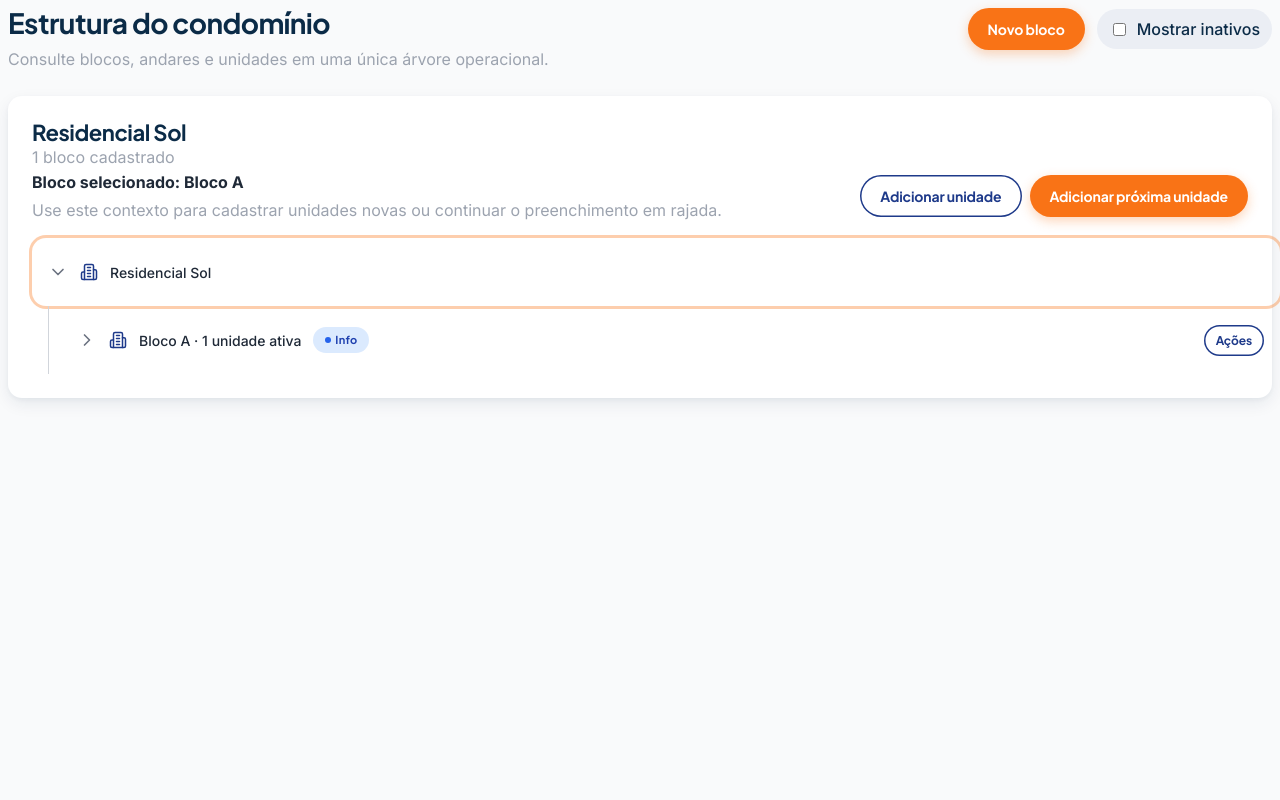
Test: EstruturaPage integration › inactivates a unidade, hides it, then shows it again when inactive items are enabled
The image size is (1280, 800).
Click the list item "Bloco A · 1 unidade ativa Info Ações" at (220, 340), box [77,325,1264,356]
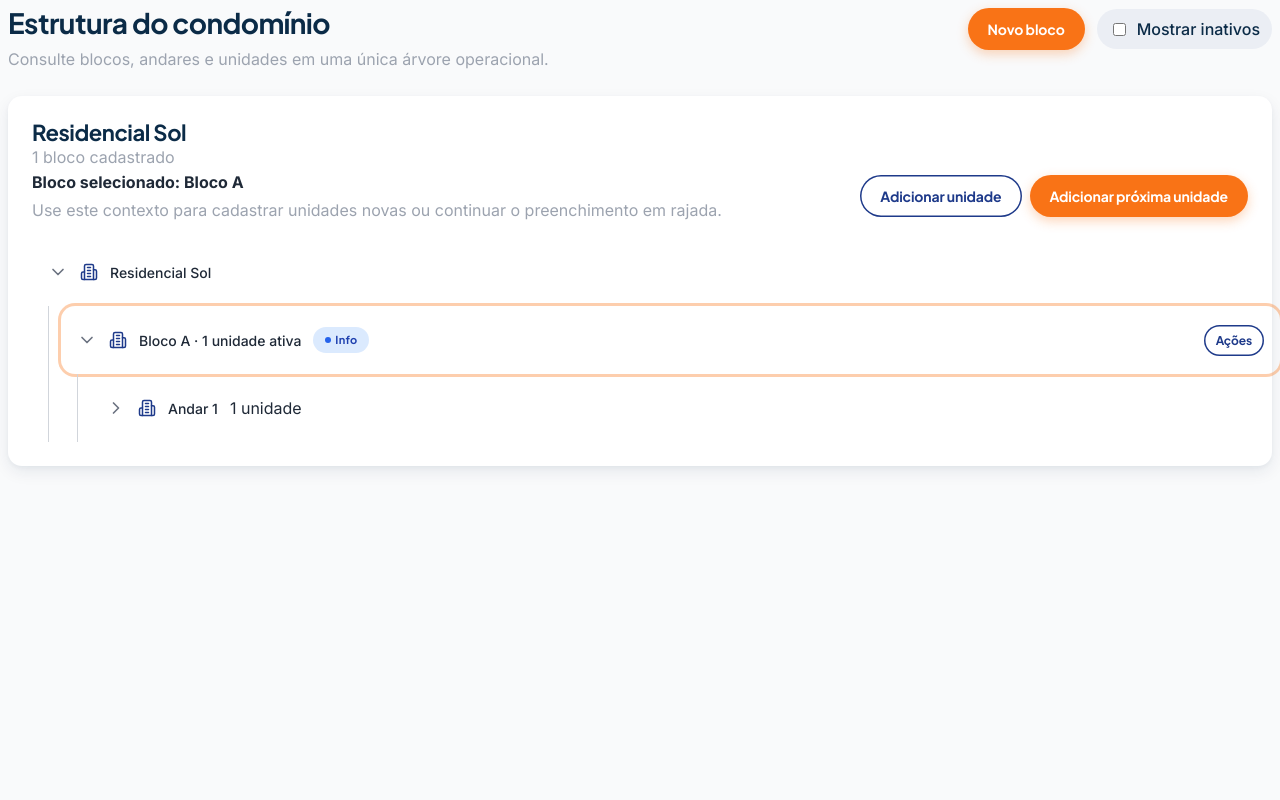
Check: the list item "Andar 1 1 unidade" is shown
Click the list item "Andar 1 1 unidade" at (204, 408), box [106,398,302,418]
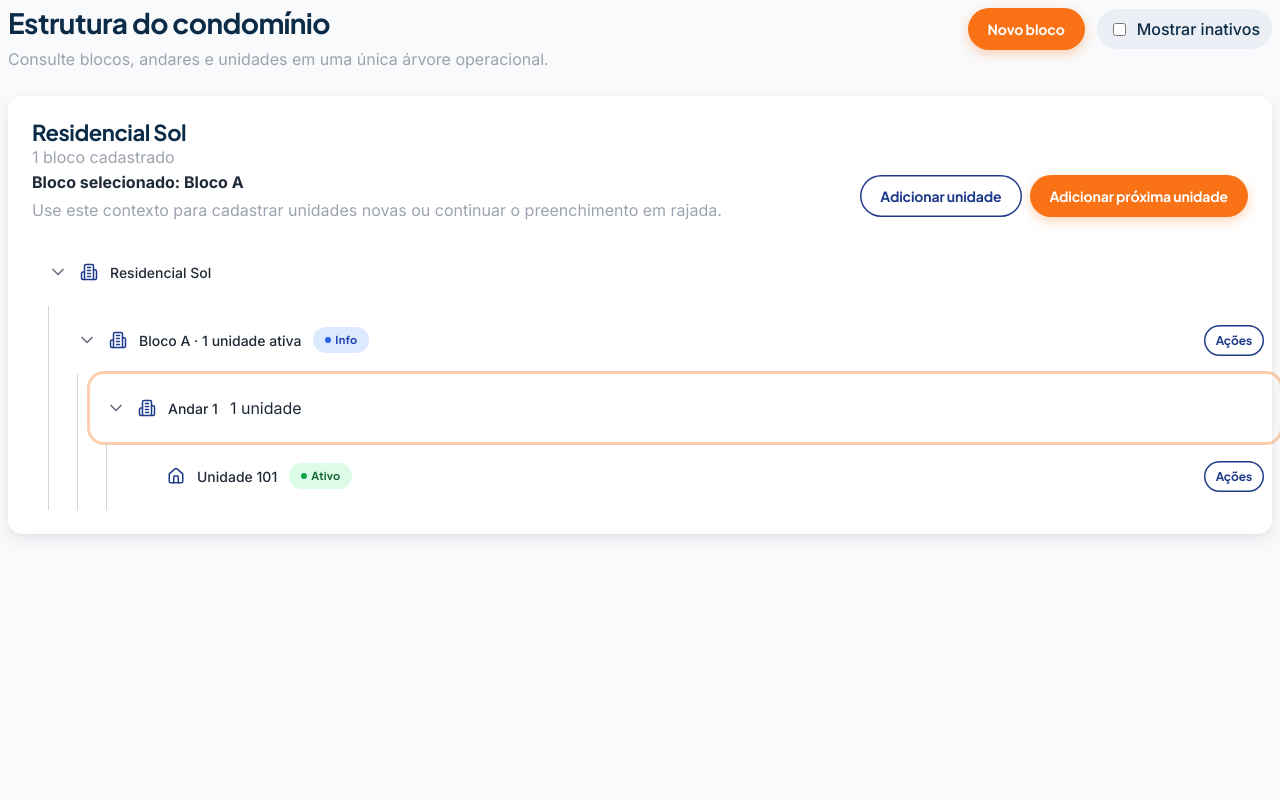
Check: the list item "Unidade 101 Ativo Ações" is shown, box [167,461,1264,492]
Click the button with aria-label "Ações da unidade 101" at (1234, 476), box [1204,461,1264,492]
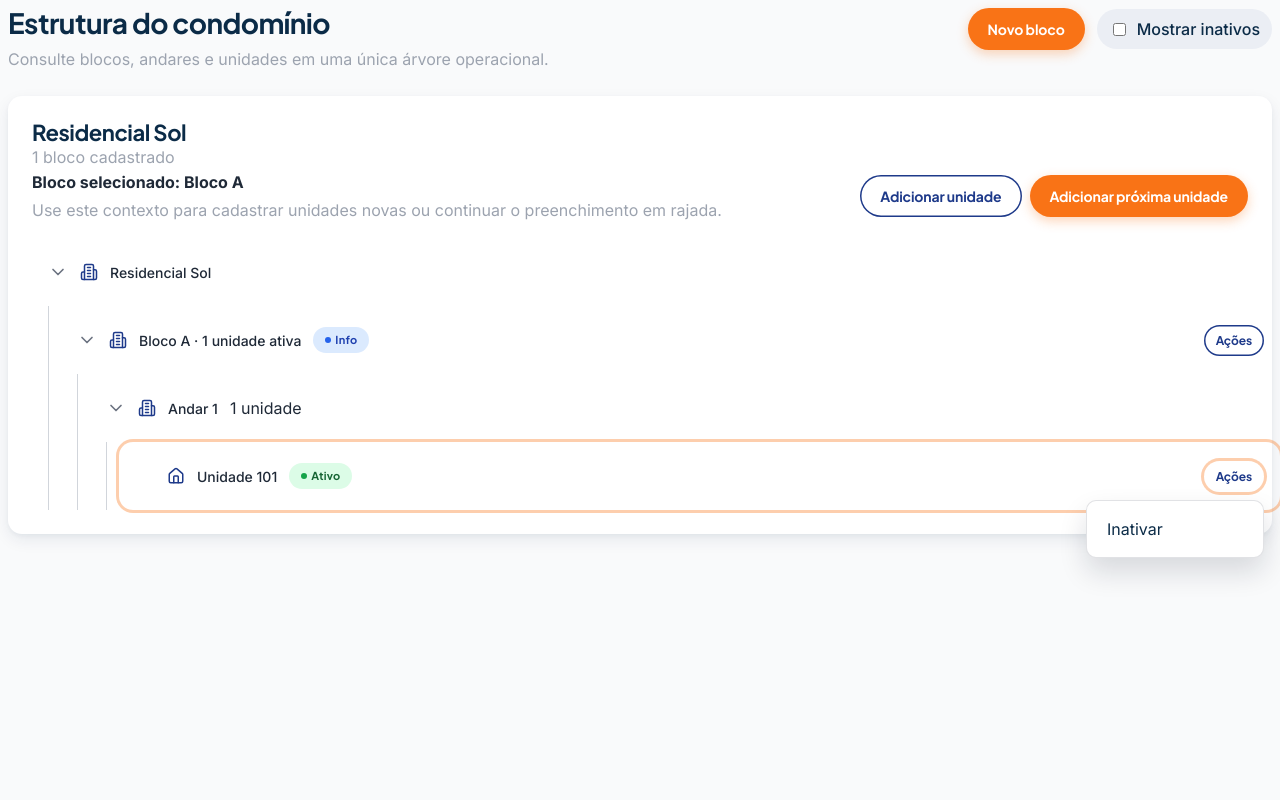
Click the menu item "Inativar" at (1175, 529), box [1095,509,1255,549]
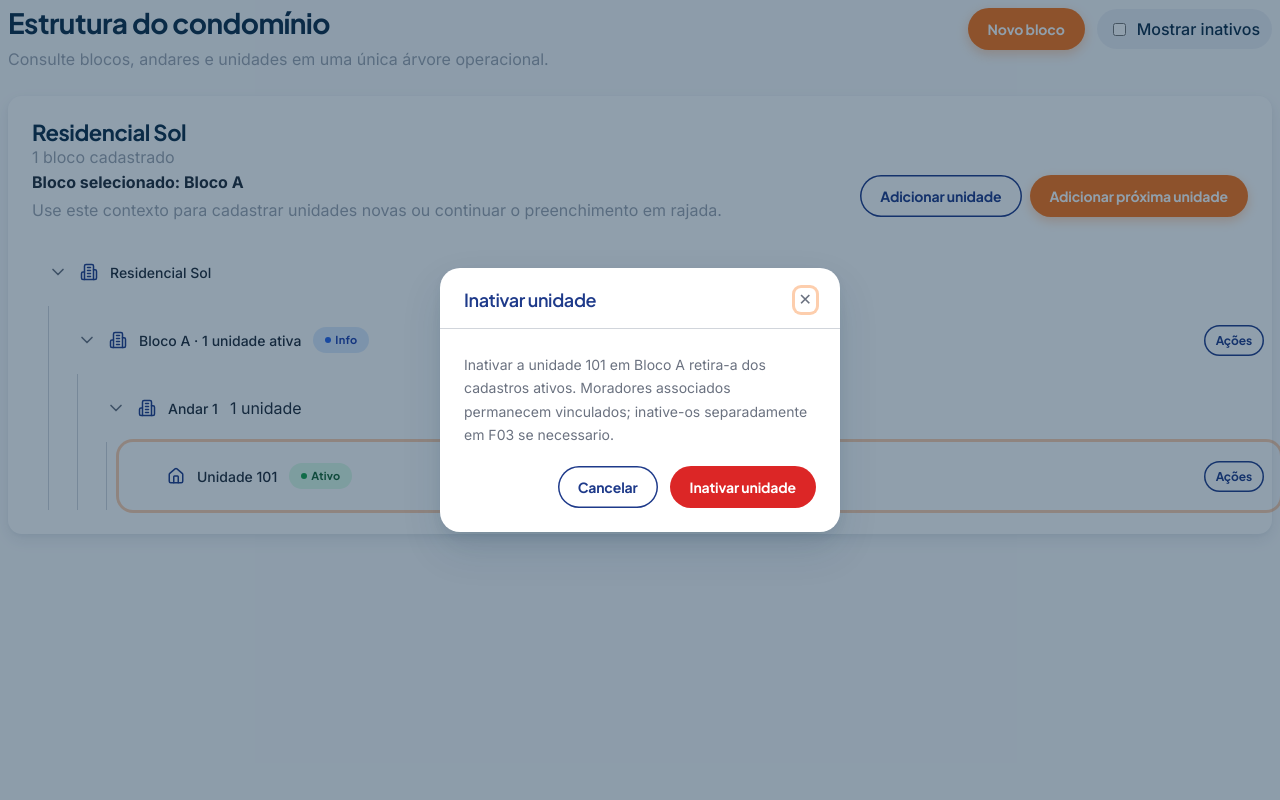
Click the button "Inativar unidade" at (743, 487), box [670,466,816,508]
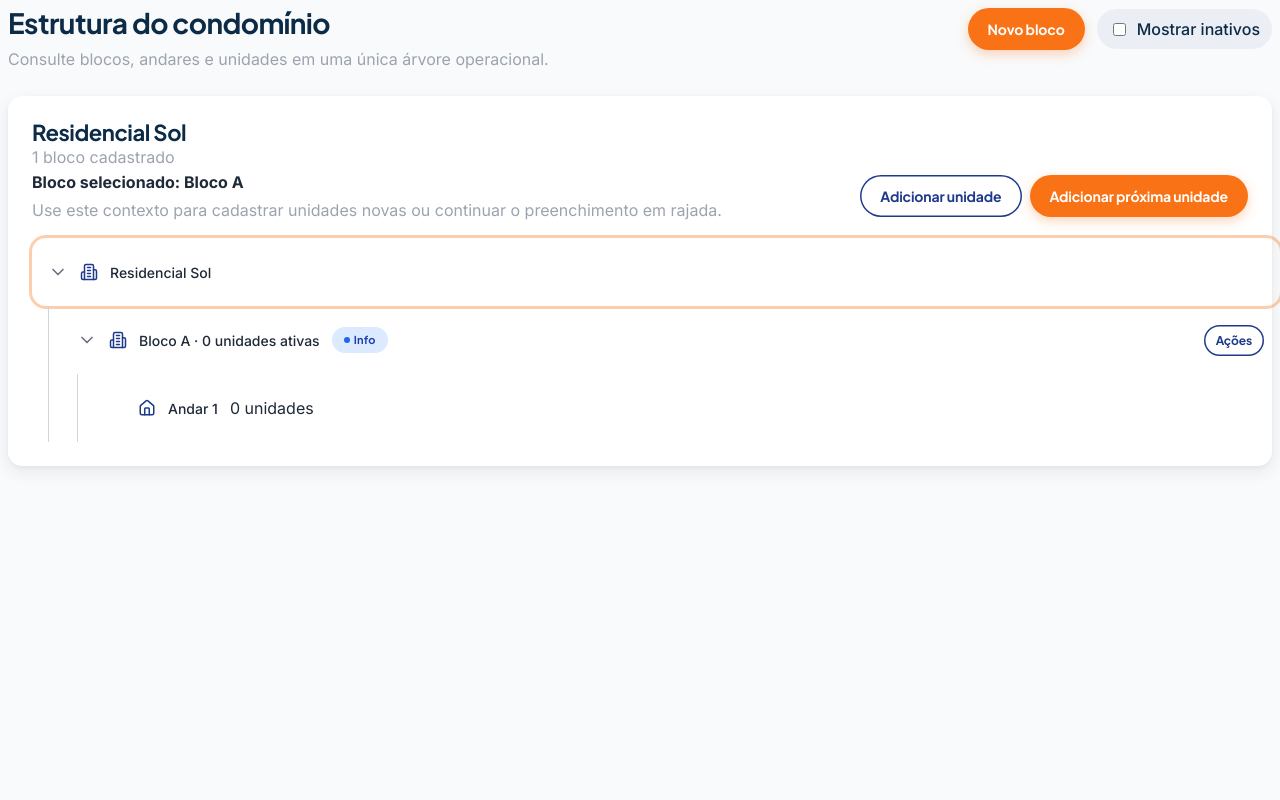
Check: the text "Unidade 101" is gone
Click the checkbox labelled "Mostrar inativos" at (1119, 29), box [1113,22,1126,36]
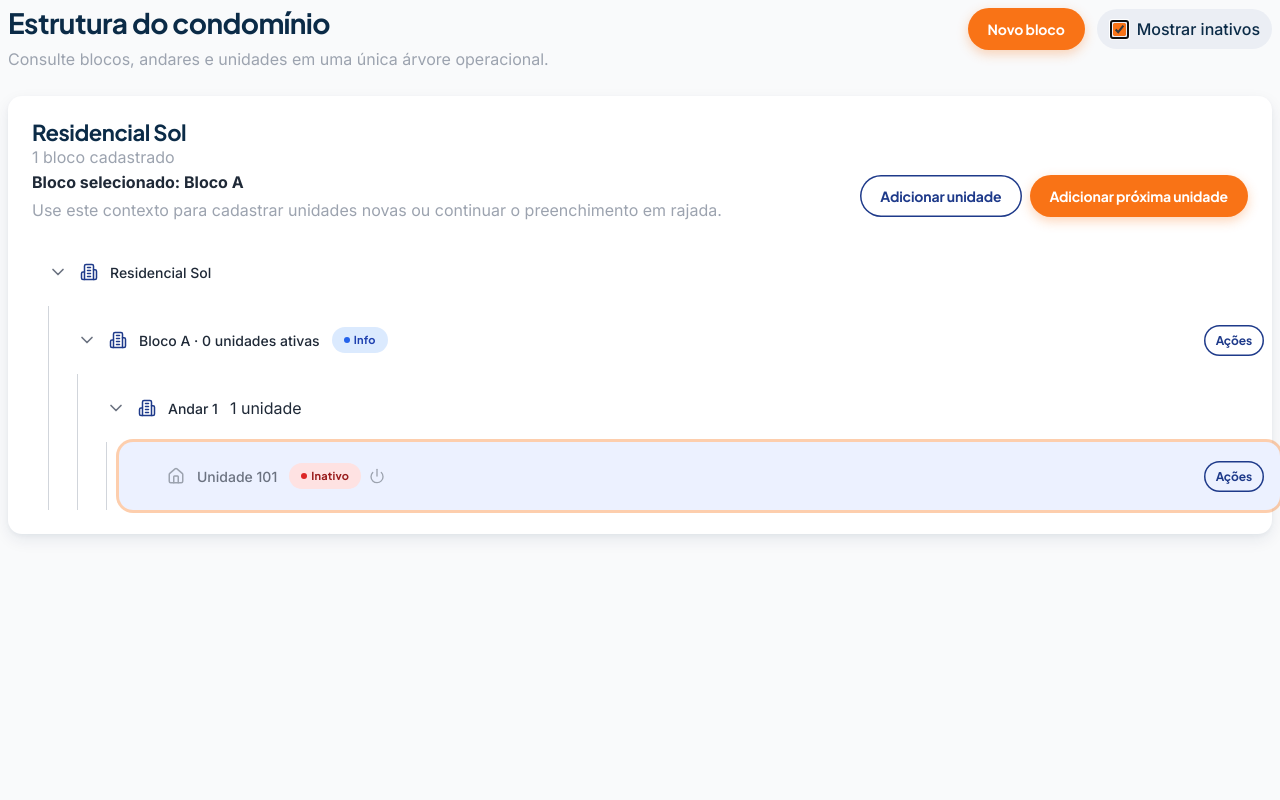
Check: the list item "Unidade 101 Inativo Ações" is shown, box [119,442,1279,510]
Check: the icon with test id "tree-node-state-icon-unidade-un-1" is shown, box [369,468,385,484]
